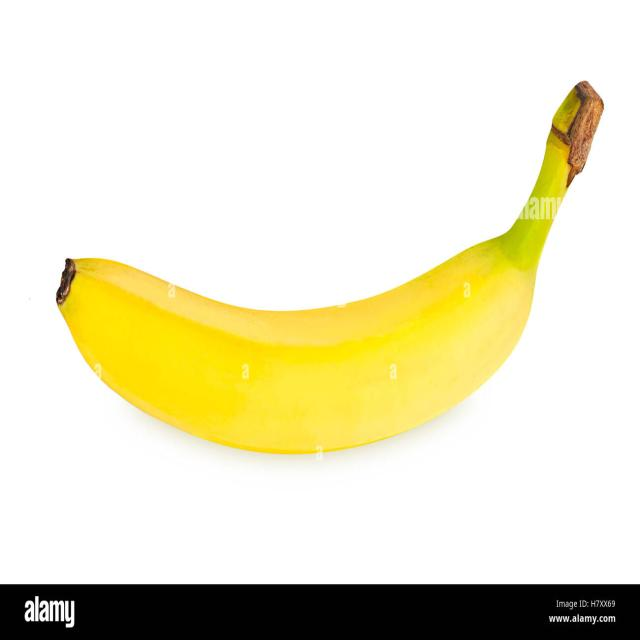non_orange: (55, 83, 599, 457)
